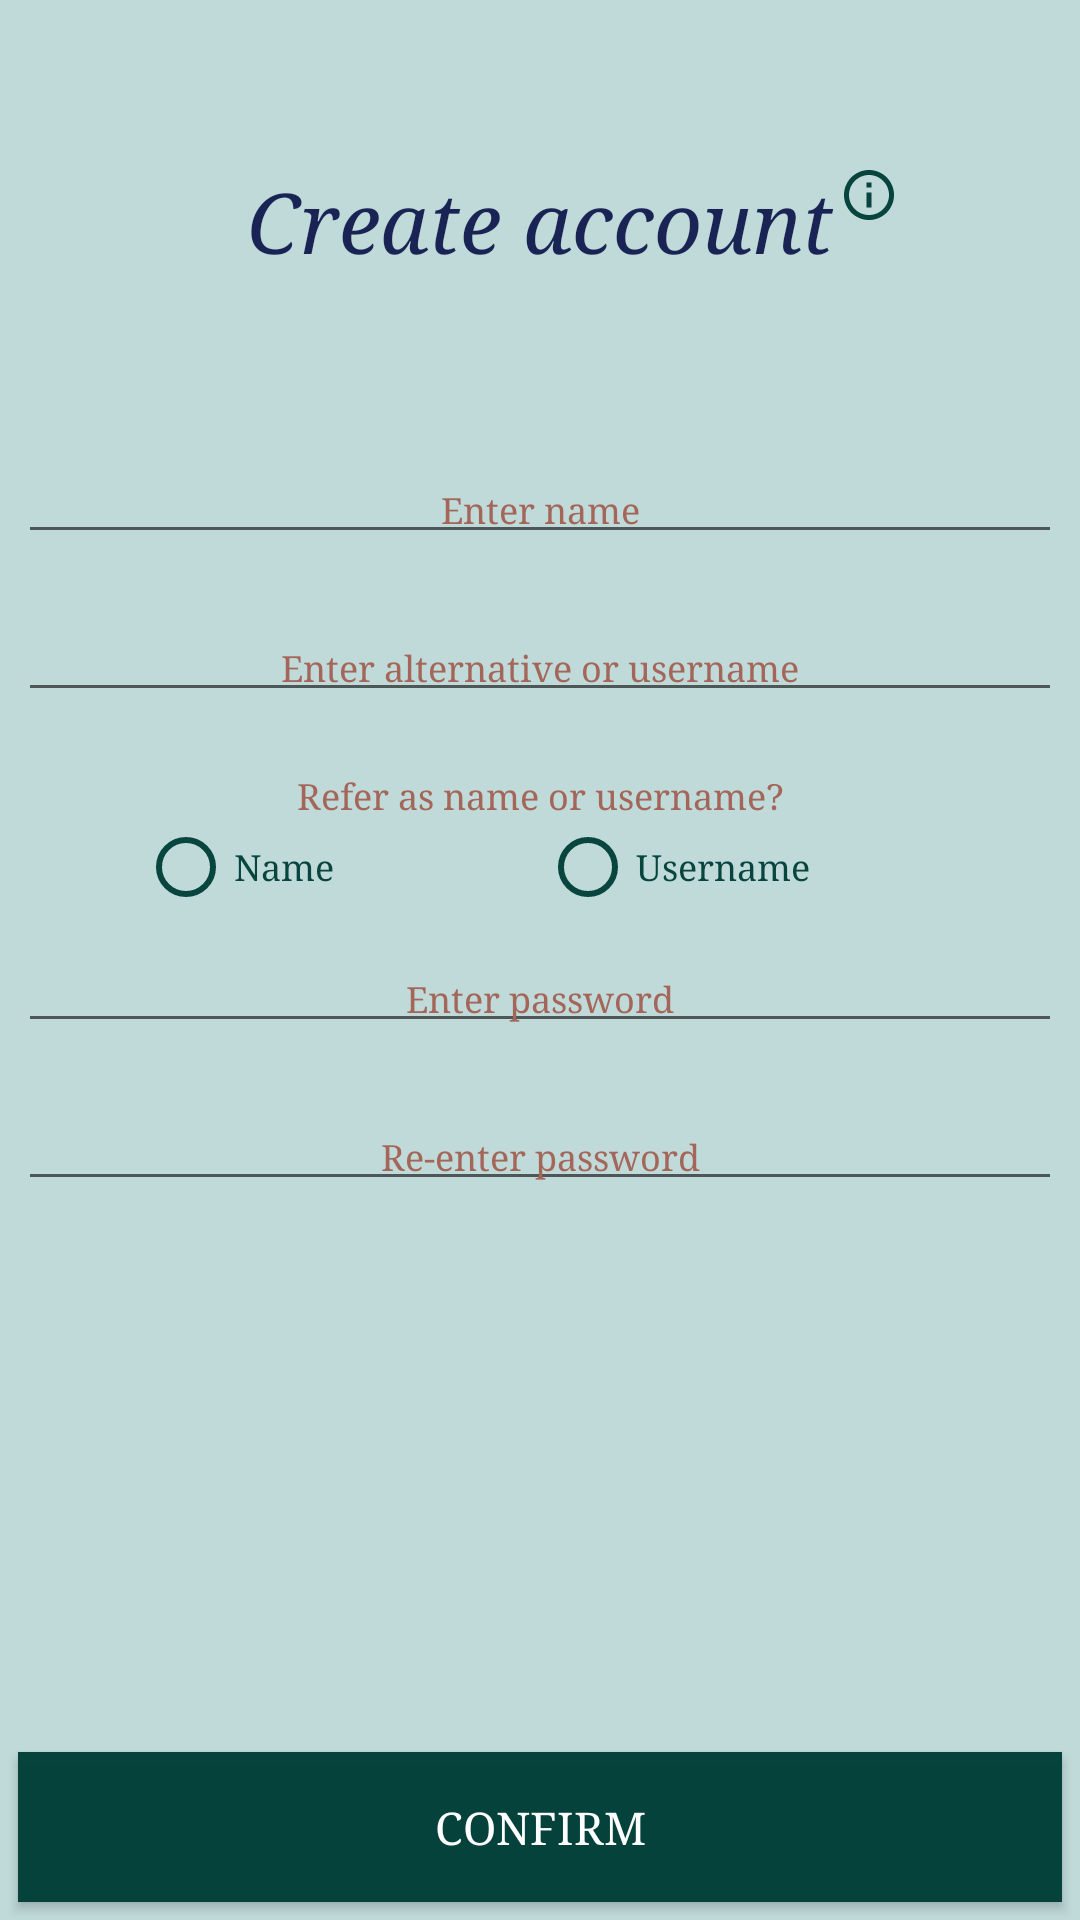

Icon click points for this 1080 × 1920 phone screenshot, format [x,y]:
more info: [869,195]
